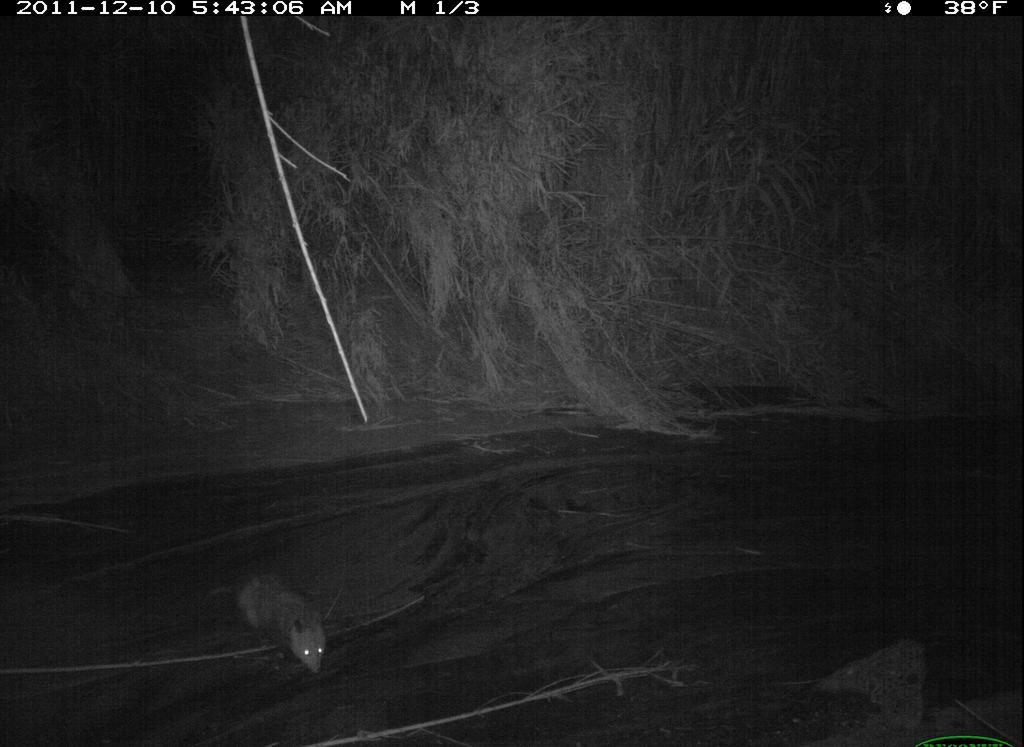opossum: (223, 552, 340, 683)
